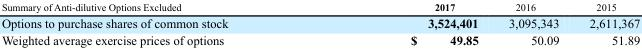table: (0, 0, 639, 47)
table column: (0, 0, 318, 47), (318, 0, 492, 47), (492, 0, 573, 47), (573, 0, 639, 47)
table column header: (0, 0, 639, 13)
table row: (0, 13, 639, 31), (0, 31, 639, 47), (0, 0, 639, 13)
